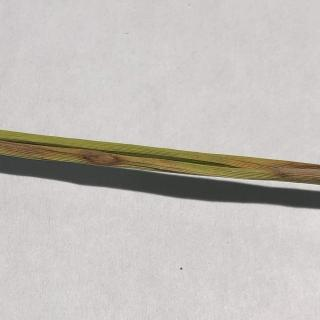Blast: (81, 146, 124, 170)
